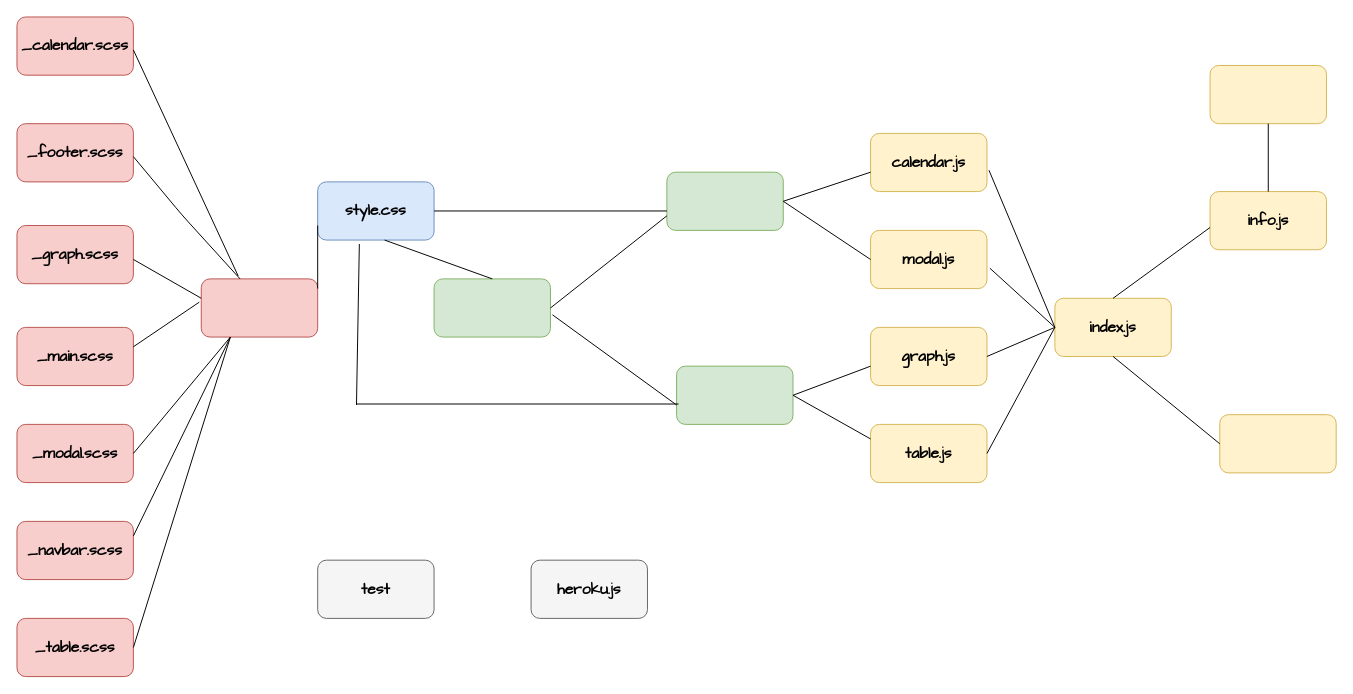
Some shapes in this 1353 by 694 pixel diagram are drawn without their labels. Each missing label, with the centre of its shape:
"correlacion.html" goes at point (734, 394).
"diario.html" goes at point (724, 200).
"diario.js db.js" goes at point (1267, 94).
"index.html" goes at point (491, 307).
"phi.js" goes at point (1277, 443).
"style.scss" goes at point (259, 307).
